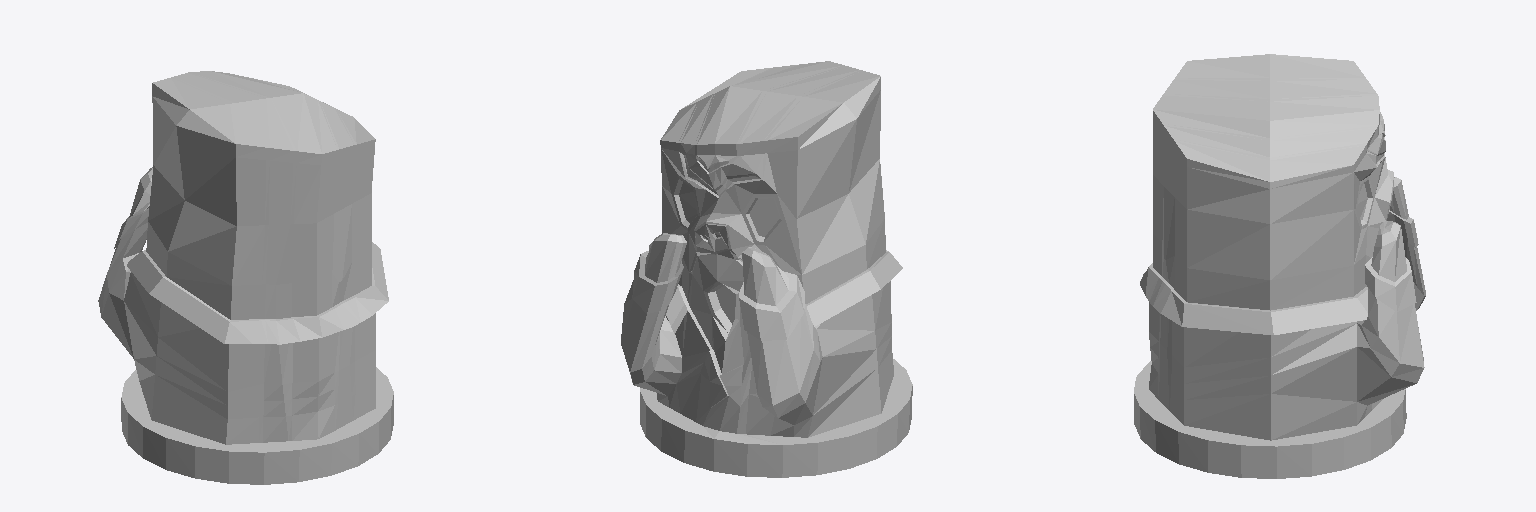
Rendered from PionRaph.obj.
3 views of the same model, side by side, from view 1: azimuth 30°, elevation 25°; view 2: azimuth 150°, elevation 25°; view 3: azimuth 270°, elevation 25° (orthographic).
Parts seen in each view (by area): view 1: Cube; view 2: Cube; view 3: Cube.
Part boxes in pixels (bbox=[...]): Cube: bbox=[98, 71, 393, 484]; Cube: bbox=[621, 61, 912, 477]; Cube: bbox=[1134, 54, 1425, 478].
Bounding box in the file's own units: 0.1608 × 0.2115 × 0.1679.